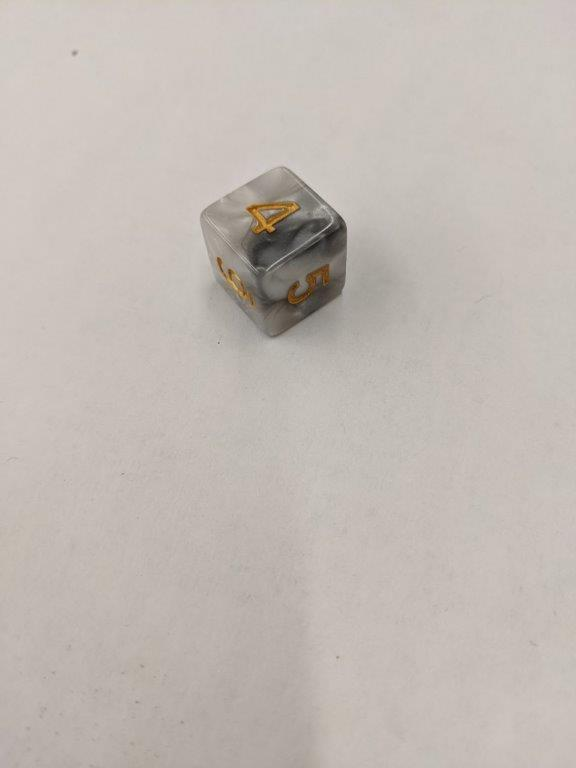d6-4: (198, 166, 351, 342)
